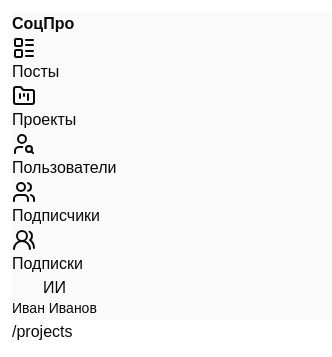
Scenario: AppSidebar — переходы по роутам › переходит на /posts при клике «Посты»
What coordinates should you click on to do the following:
click the link "Посты"
I would click on:
 (12, 36)
Its box is [12,36,59,80].
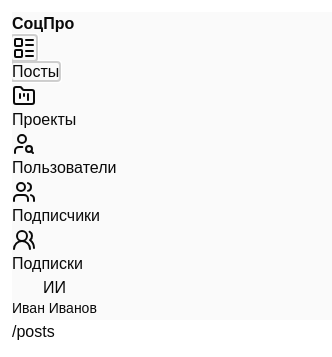
Check: the text with test id "nav-current-path" reads "/posts", box [12,323,55,340]
